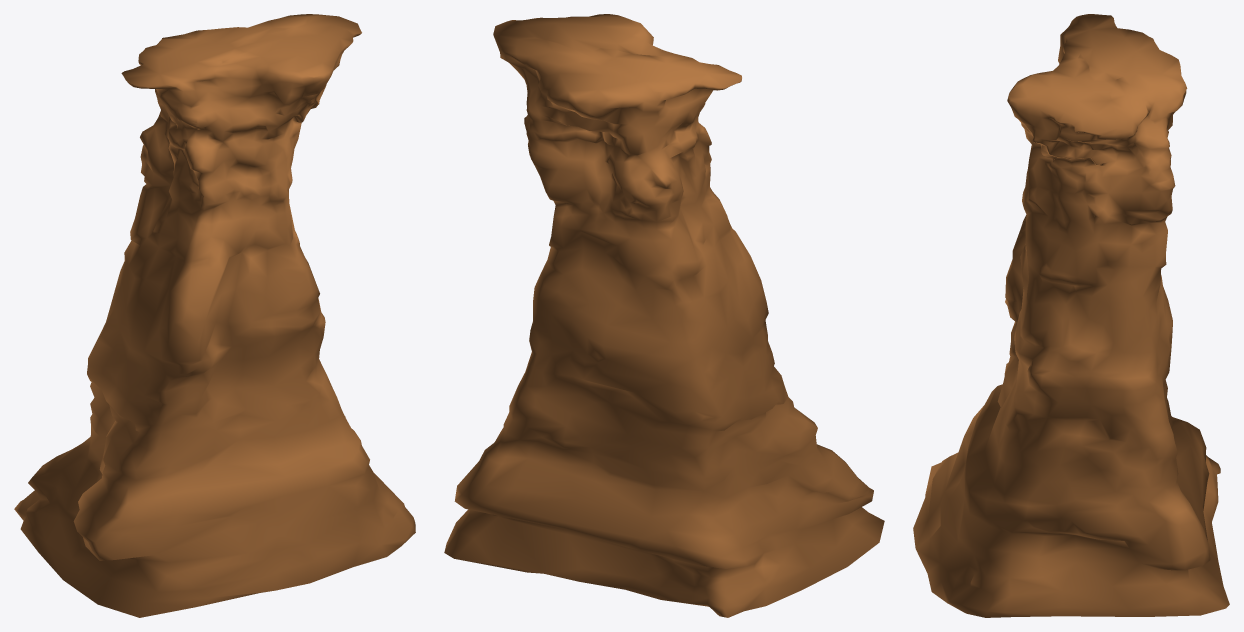
File: MSH_Rocks_Cliff_20_c.FBX
3 views of the same model, side by side, from view 1: azimuth 30°, elevation 25°; view 2: azimuth 150°, elevation 25°; view 3: azimuth 270°, elevation 25° (orthographic). The views are drawn at different scales.
Parts seen in each view (by area): view 1: MESH_LOD0; view 2: MESH_LOD0; view 3: MESH_LOD0.
Boxes of the visible parts, <box> form: MESH_LOD0: <box>14,14,415,617</box>; MESH_LOD0: <box>444,14,884,617</box>; MESH_LOD0: <box>913,14,1229,617</box>.
Size of what is drawn, in the model's own units: 490 by 686 by 398.
